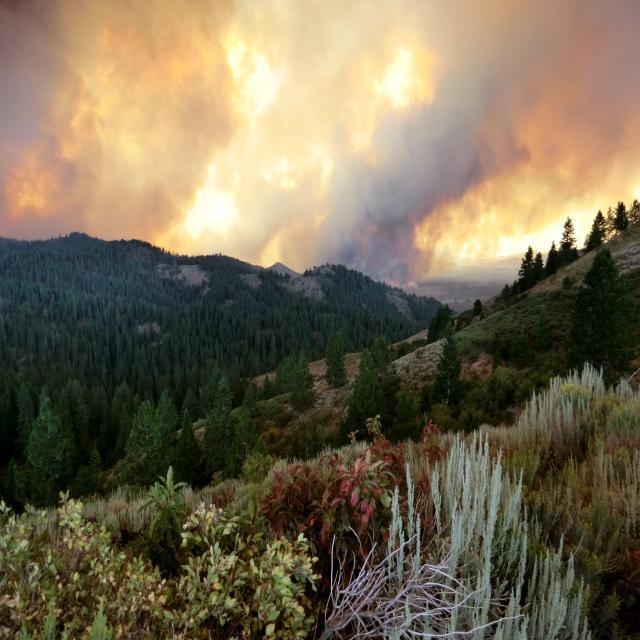Smoke: (290, 48, 551, 282)
